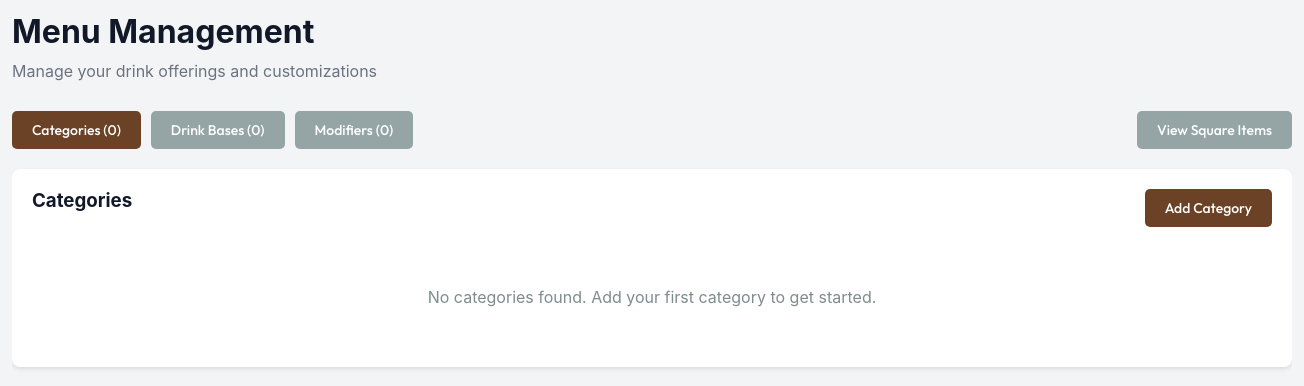
Scenario: MenuManagement › switches to Drink Bases tab when clicked
Click the button "Drink Bases (0)": (218, 130) [151,111,284,149]
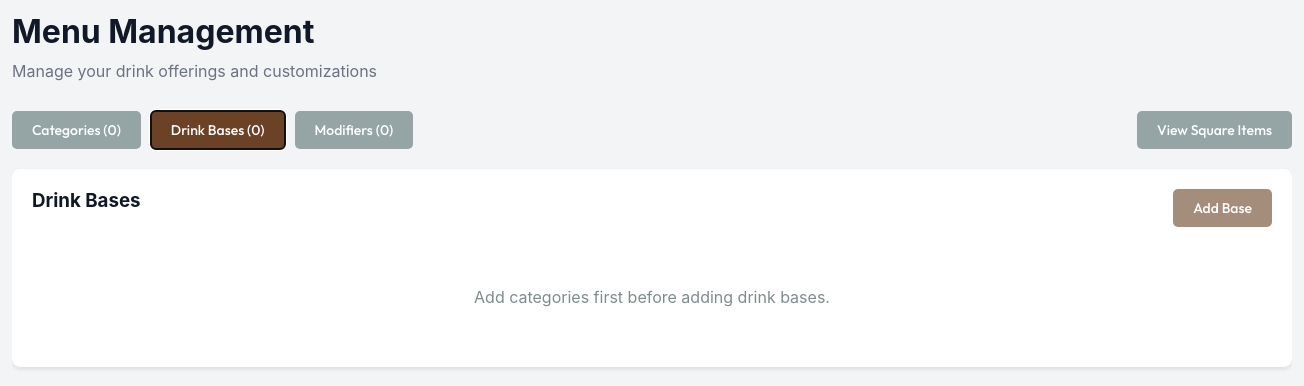
Result: the button "Add Base" is shown at [1173,189,1272,227]
